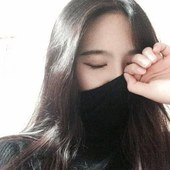face: (77, 22, 151, 124)
